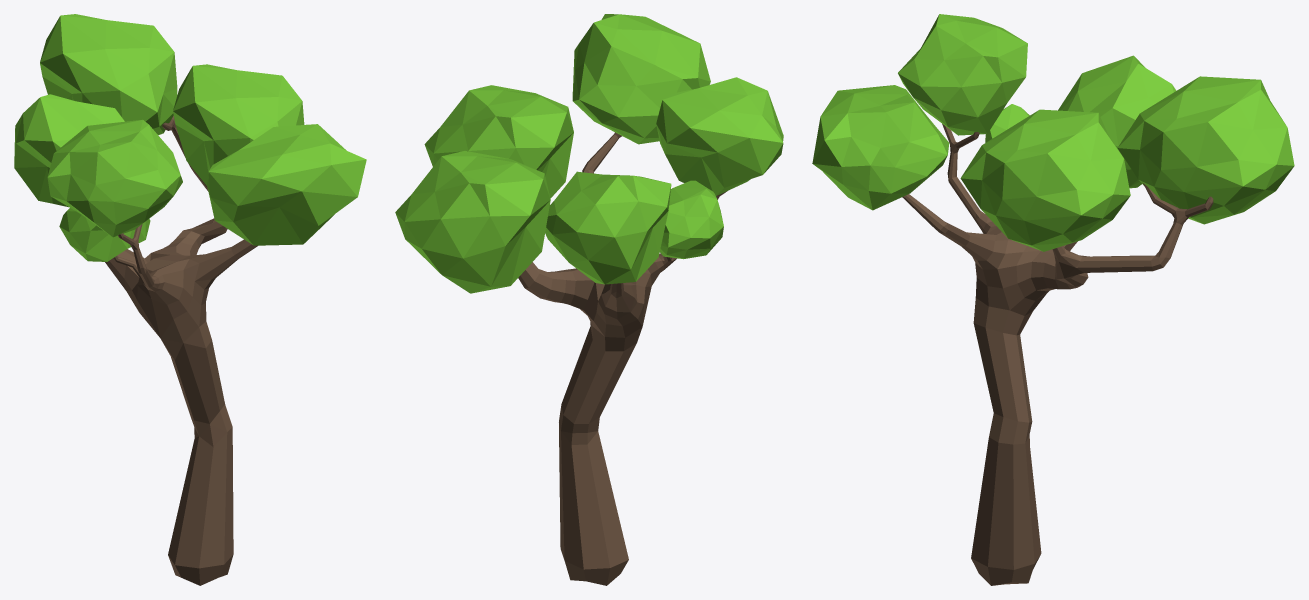
File: Tree1.3.fbx
3 views of the same model, side by side, from view 1: azimuth 30°, elevation 25°; view 2: azimuth 150°, elevation 25°; view 3: azimuth 270°, elevation 25° (orthographic). The views are drawn at different scales.
Parts seen in each view (by area): view 1: Tree1.3; view 2: Tree1.3; view 3: Tree1.3.
Boxes of the visible parts, box(x1,y1,x2,y2) form: Tree1.3: box(14, 14, 366, 585); Tree1.3: box(395, 14, 783, 585); Tree1.3: box(812, 14, 1294, 585).
Size of the model in its own units: 269 by 424 by 366.
